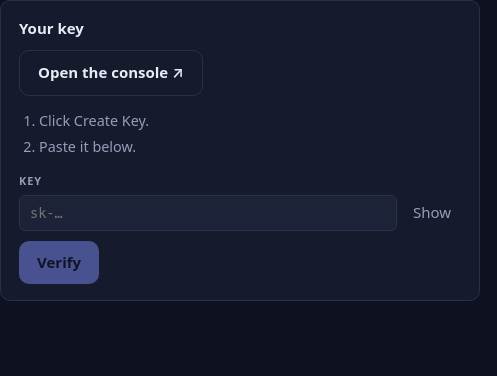
Test case: CaptureCard › shows a failed verify and keeps the paste
Type "sk-bad" into the password field labelled "Key Show". click: (208, 213)
box: left=19, top=195, right=397, bottom=231
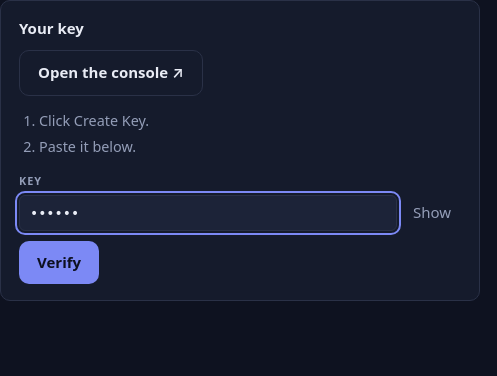
Click the button "Verify". click: (59, 262)
box: left=19, top=241, right=99, bottom=284
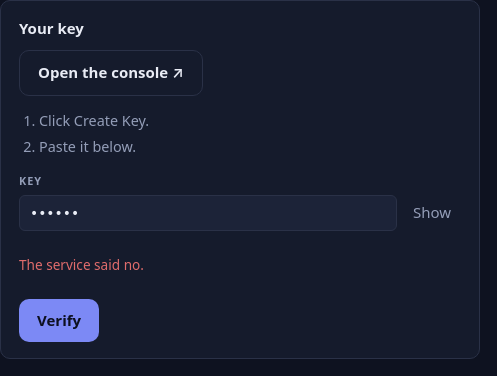
Expected: the text "The service said no." is shown, left=19, top=254, right=144, bottom=275
